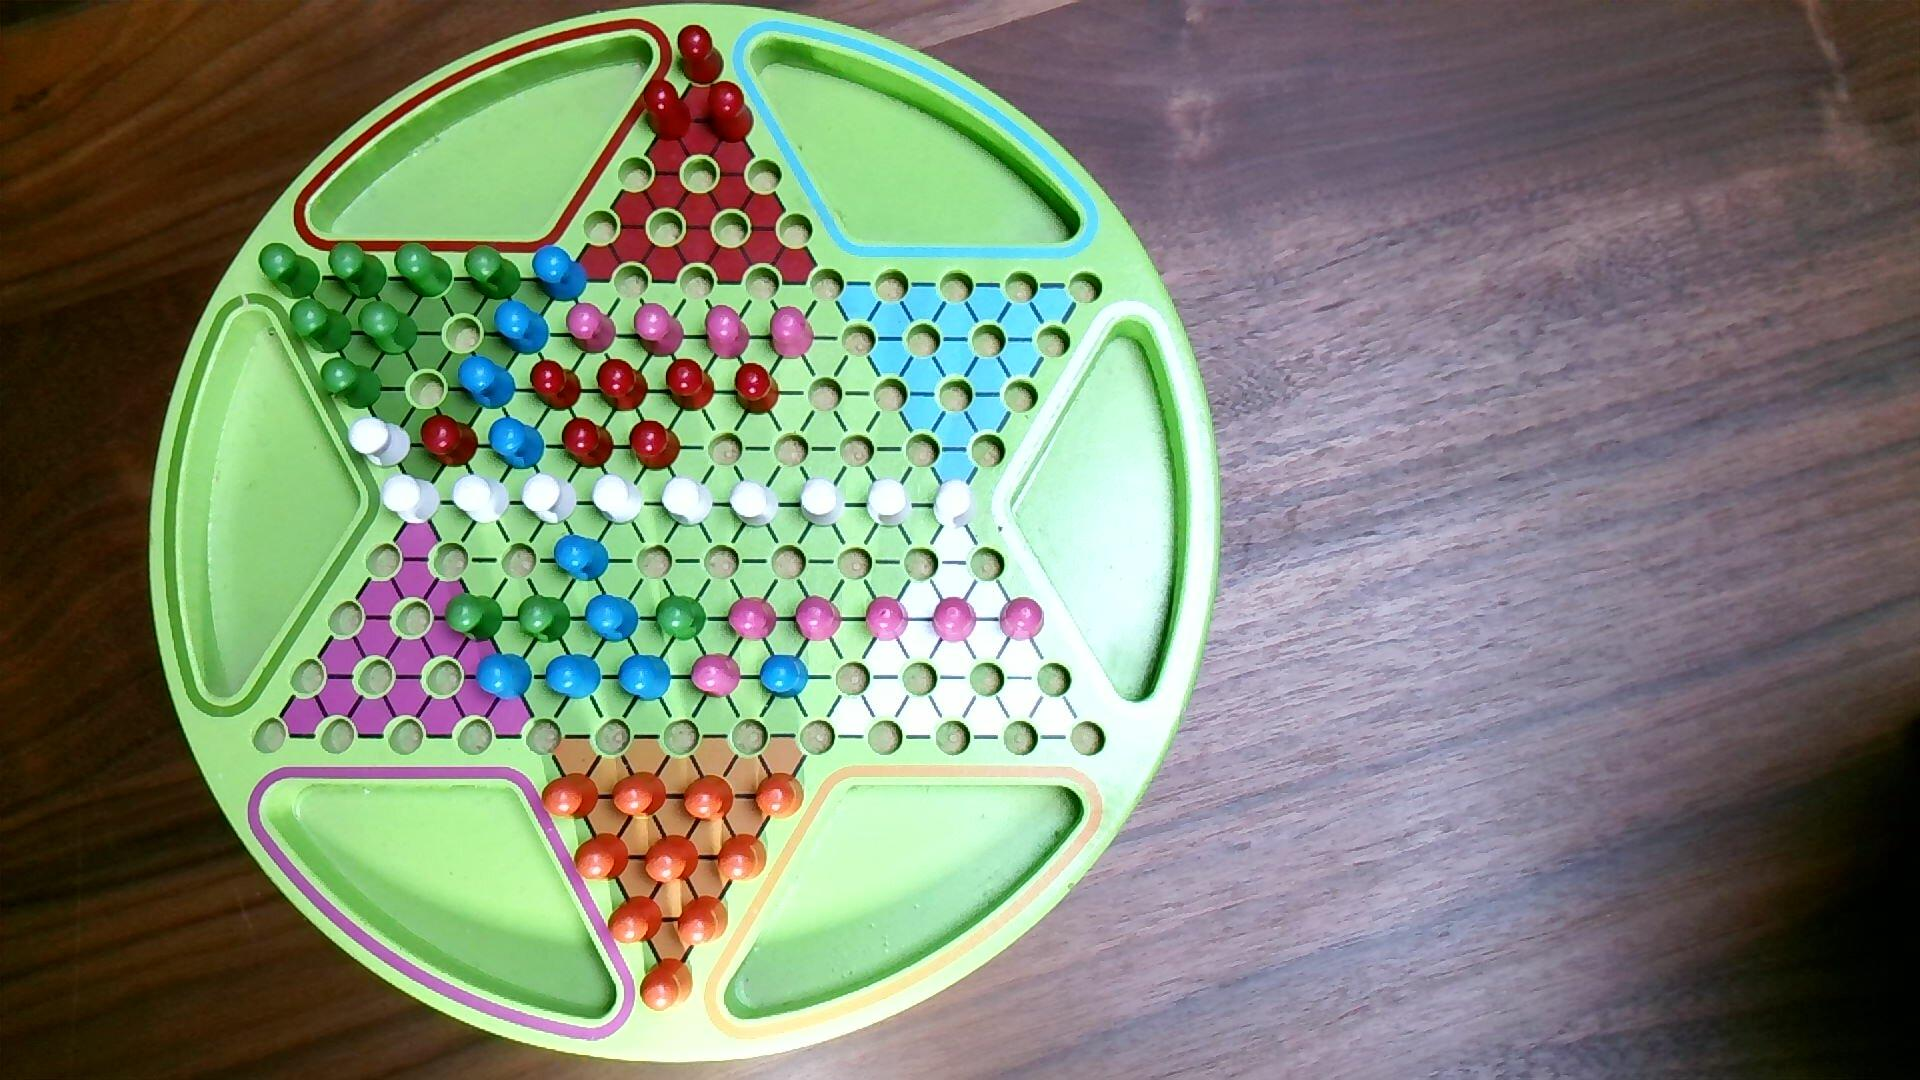B: (531, 241, 589, 305), (487, 415, 549, 473), (458, 353, 518, 411), (495, 298, 553, 357), (475, 650, 535, 704), (554, 533, 612, 585), (584, 593, 641, 646), (545, 653, 605, 702), (616, 654, 674, 704), (758, 653, 812, 703)
G: (287, 295, 353, 356), (257, 243, 323, 302), (328, 239, 390, 301), (394, 240, 455, 301), (357, 299, 419, 357), (320, 356, 385, 411), (464, 243, 524, 302), (444, 593, 504, 646), (517, 593, 574, 646), (654, 593, 709, 644)
O: (571, 829, 633, 884), (640, 956, 696, 1014), (642, 833, 702, 887), (607, 893, 666, 945), (539, 771, 601, 822), (675, 894, 731, 949), (611, 770, 669, 820), (680, 774, 737, 824), (716, 832, 770, 884), (754, 771, 807, 822)
R: (419, 413, 481, 469), (705, 79, 757, 145), (644, 76, 694, 142), (560, 415, 617, 472), (676, 22, 727, 84), (597, 357, 651, 414), (628, 419, 683, 473), (530, 357, 584, 413), (665, 357, 717, 413), (735, 361, 781, 417)
R2: (633, 303, 687, 359), (566, 301, 618, 356), (704, 303, 752, 363), (769, 305, 815, 363), (727, 593, 779, 644), (794, 593, 844, 644), (691, 653, 744, 700), (1000, 593, 1048, 644), (865, 593, 910, 644), (934, 595, 978, 644)
W: (347, 415, 414, 469), (380, 473, 443, 527), (451, 472, 512, 527), (522, 471, 580, 527), (659, 473, 717, 529), (591, 473, 647, 527), (727, 479, 781, 530), (932, 477, 977, 535), (866, 476, 915, 529), (800, 476, 848, 529)
